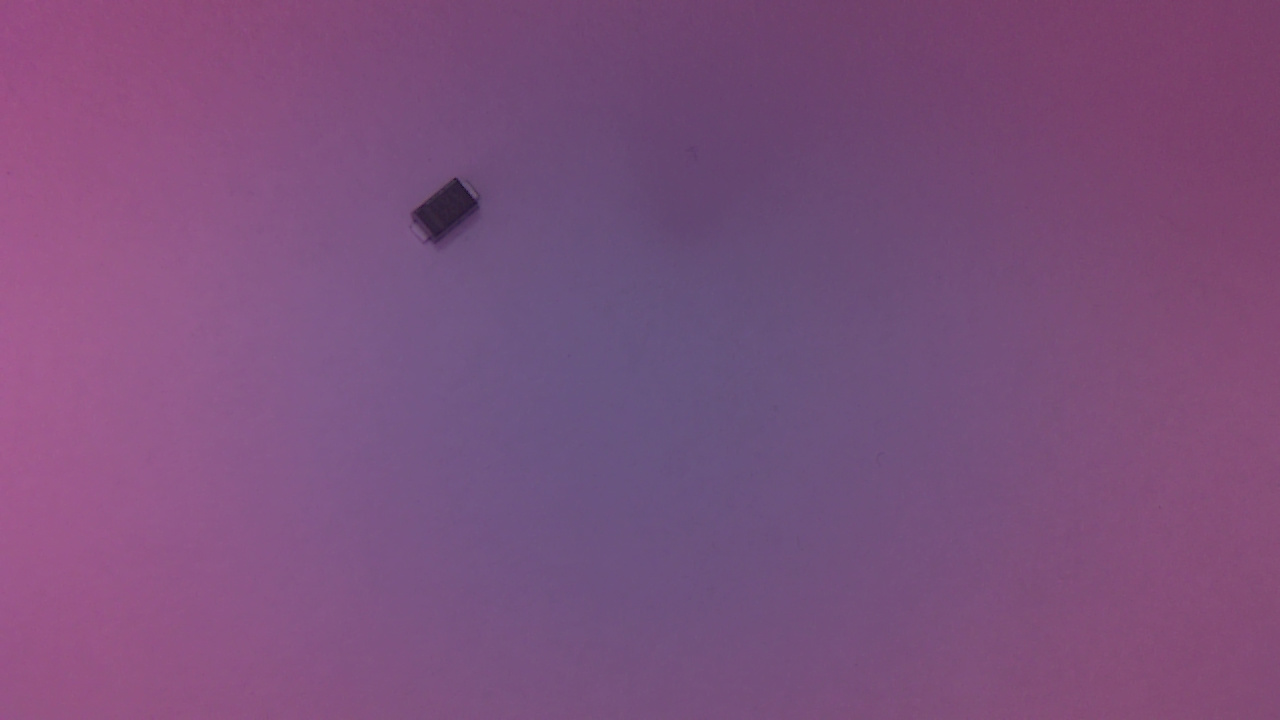Diode: (408, 181, 487, 250)
